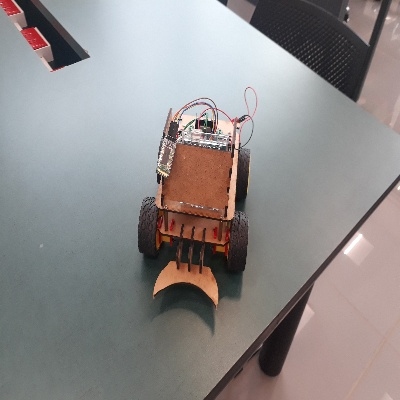Robot: (136, 107, 249, 309)
